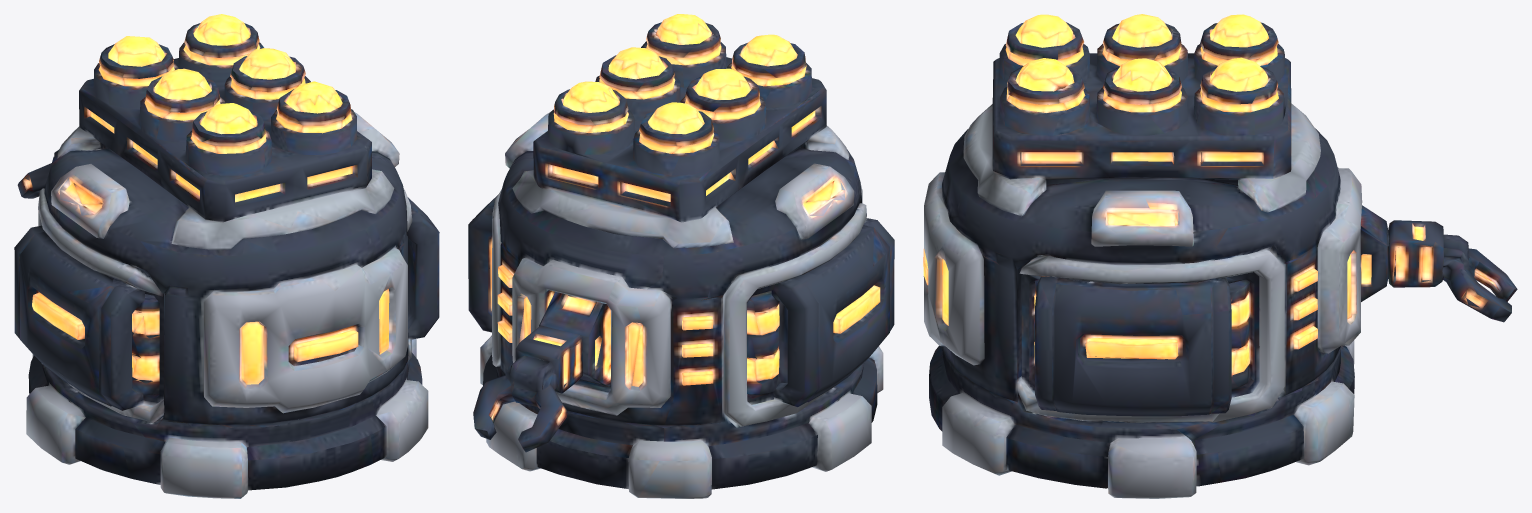
File: building-ammunition-tier-2.glb
The picture shows the model from 3 angles, left to right: view 1: azimuth 30°, elevation 25°; view 2: azimuth 150°, elevation 25°; view 3: azimuth 270°, elevation 25°; orthographic projection. The views are drawn at different scales.
Visible parts, largest first — view 1: building-ammunition-tier-2-body; view 2: building-ammunition-tier-2-body; view 3: building-ammunition-tier-2-body.
Boxes of the visible parts, bbox=[...] form: building-ammunition-tier-2-body: bbox=[14, 14, 439, 498]; building-ammunition-tier-2-body: bbox=[468, 14, 894, 498]; building-ammunition-tier-2-body: bbox=[923, 14, 1517, 498].
Bounding box in the file's own units: 0.7338 × 0.6877 × 1.
Materials: 1 (1 with a texture image).
